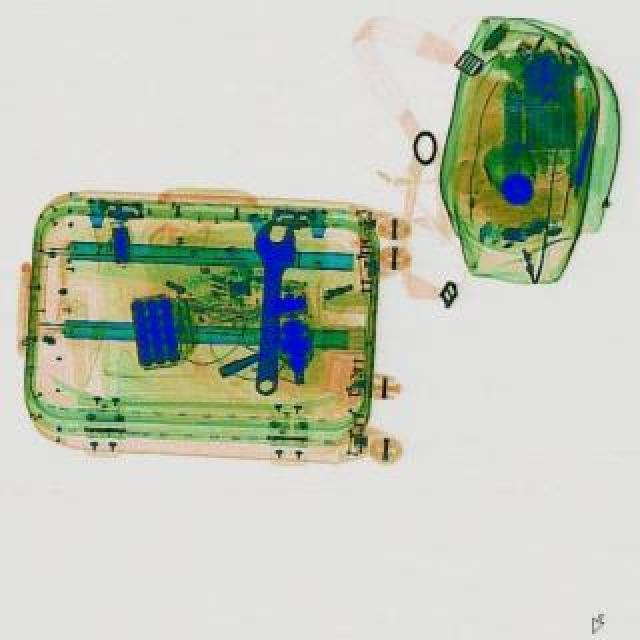scissors: (244, 216, 300, 398)
